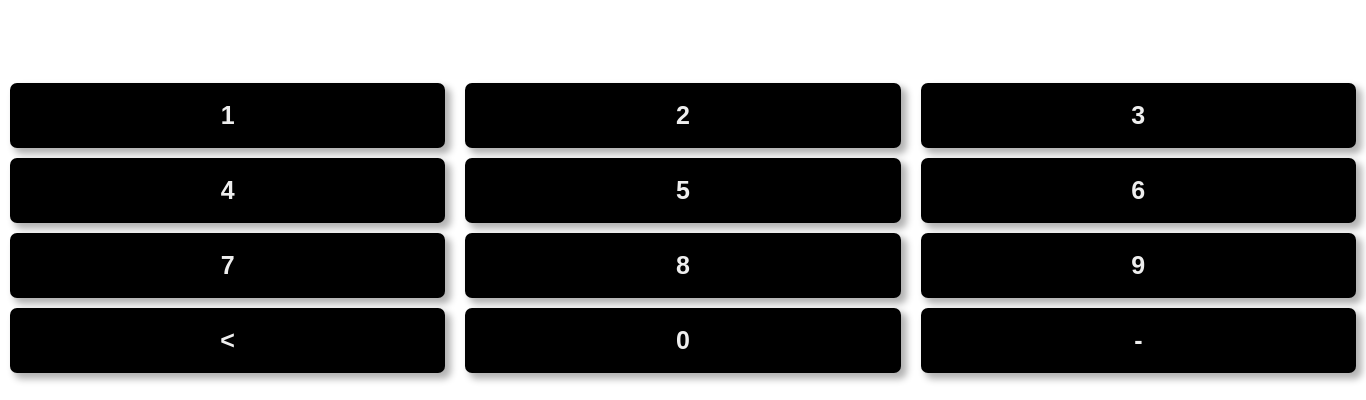
it: <PinPad /> › should handle button click correctly
The width and height of the screenshot is (1366, 400).
Click the button "1": click(228, 116) [10, 83, 445, 148]
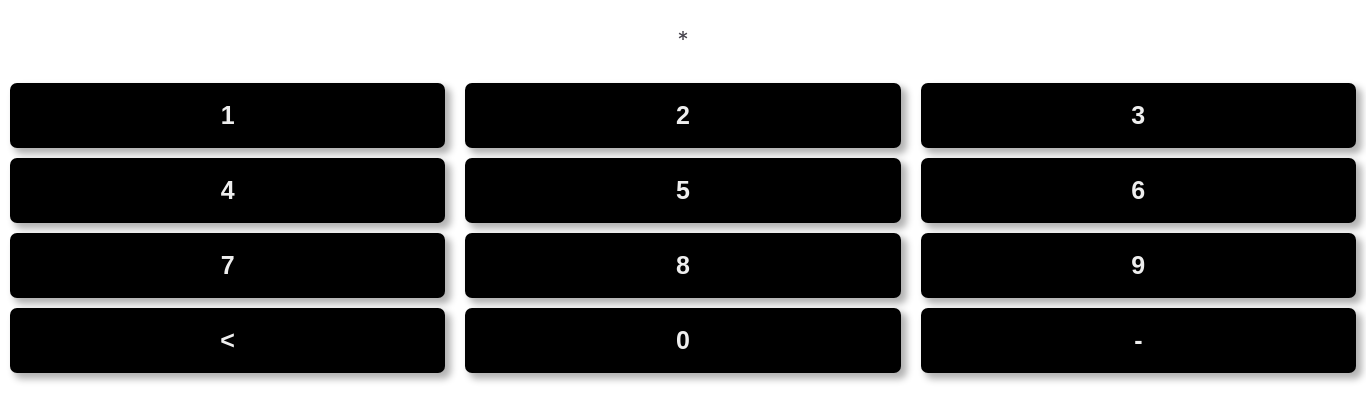
Click the button "2": click(683, 116) [465, 83, 901, 148]
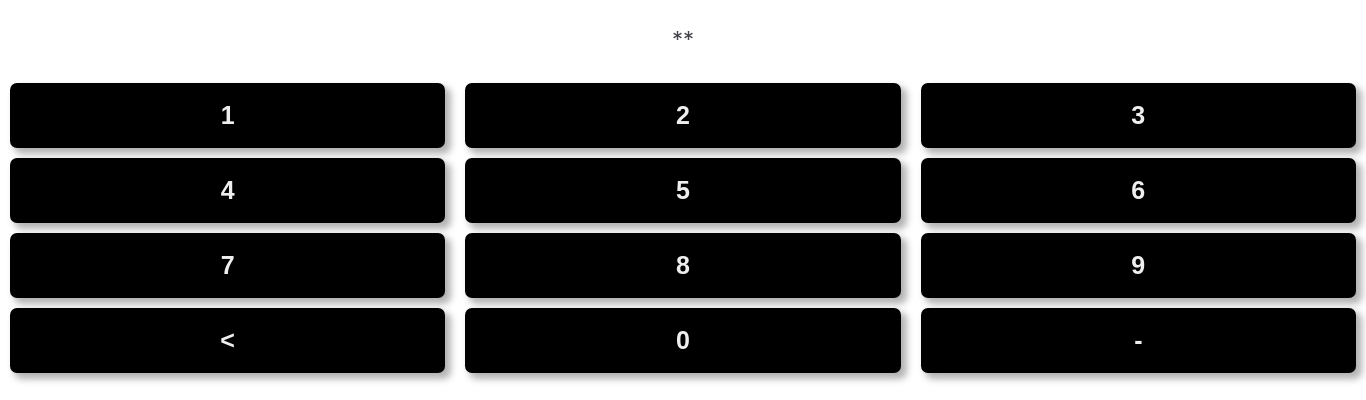
Click the button "3": click(1138, 116) [921, 83, 1356, 148]
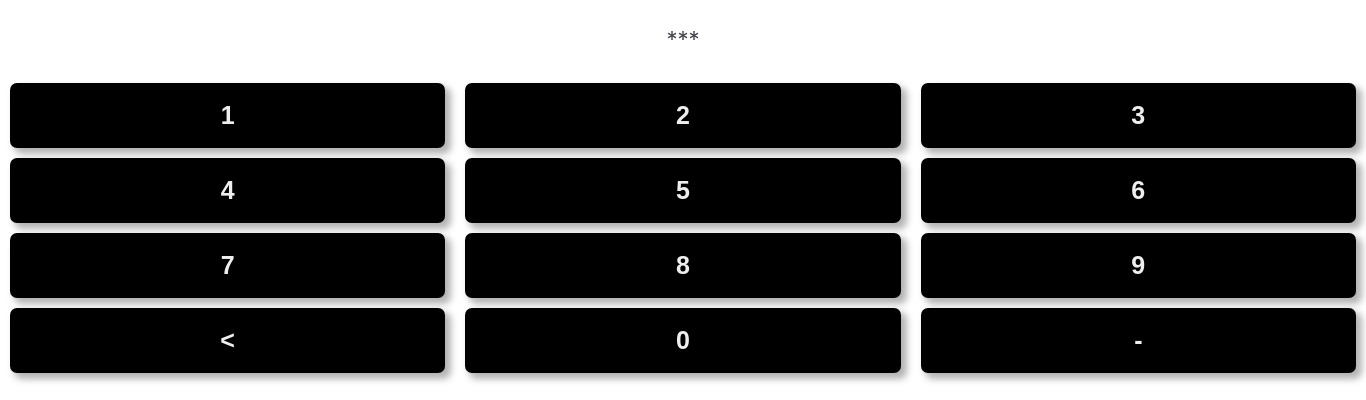
Click the button "4": click(228, 190) [10, 158, 445, 223]
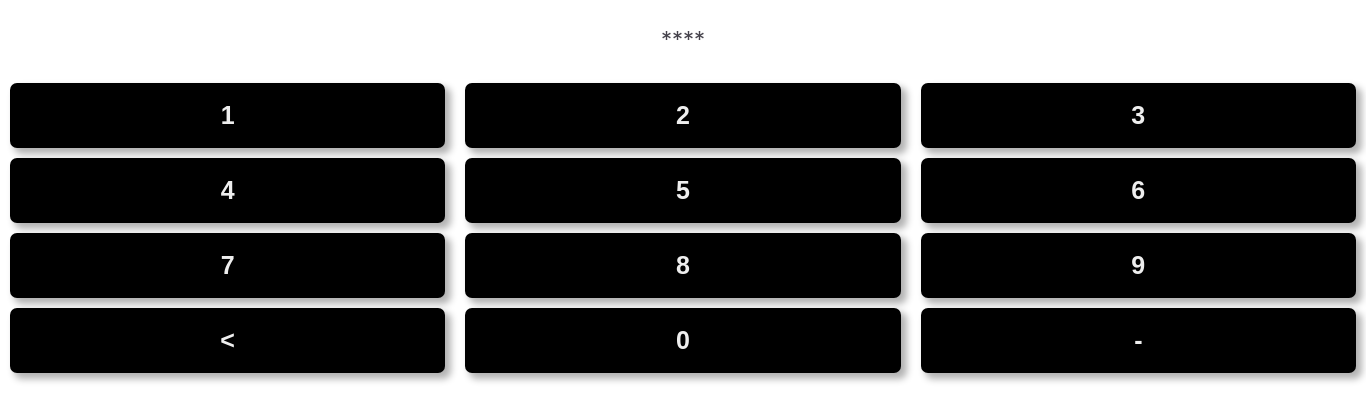
expect the text "****" is shown: met, box [569, 14, 797, 64]
